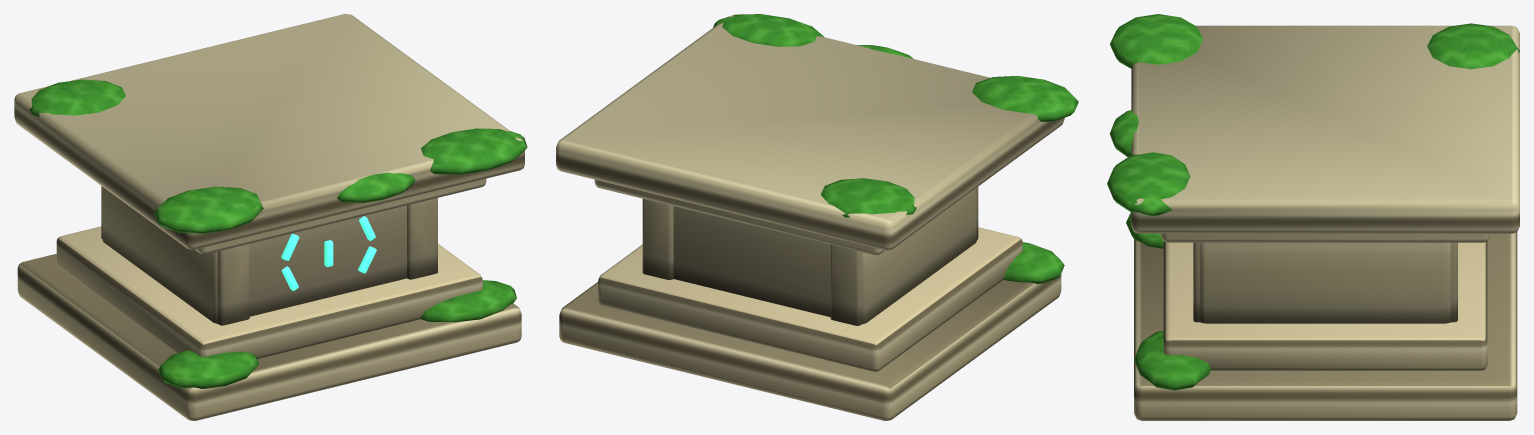
Rendered from m3_pedestal.glb.
The picture shows the model from 3 angles, left to right: view 1: azimuth 30°, elevation 25°; view 2: azimuth 150°, elevation 25°; view 3: azimuth 270°, elevation 25°; orthographic projection. The views are drawn at different scales.
Visible parts, largest first — view 1: PedCapTop, PedBase1, PedBase2, PedShaft, PedMoss_2, PedMoss_3, PedMoss_0, PedMoss_5, PedPilaster_-0.44, PedPilaster_0.44, PedMoss_1, PedCap1 (+1 smaller); view 2: PedCapTop, PedBase1, PedBase2, PedShaft, PedMoss_2, PedMoss_5, PedPilaster_-0.44, PedMoss_3, PedPilaster_0.44, PedCap1, PedMoss_0; view 3: PedCapTop, PedBase1, PedShaft, PedBase2, PedMoss_3, PedMoss_2, PedCap1, PedMoss_5, PedMoss_1, PedPilaster_0.44, PedMoss_4, PedMoss_0.
Boxes of the visible parts, bbox=[...] form: PedCapTop: bbox=[14, 14, 524, 249]; PedBase1: bbox=[17, 253, 521, 420]; PedBase2: bbox=[56, 226, 482, 358]; PedShaft: bbox=[102, 187, 406, 323]; PedMoss_2: bbox=[154, 186, 263, 233]; PedMoss_3: bbox=[421, 128, 527, 174]; PedMoss_0: bbox=[158, 350, 259, 388]; PedMoss_5: bbox=[29, 79, 125, 116]; PedPilaster_-0.44: bbox=[101, 186, 249, 325]; PedPilaster_0.44: bbox=[407, 198, 437, 279]; PedMoss_1: bbox=[420, 280, 516, 322]; PedCap1: bbox=[195, 178, 486, 254]; PedCapTop: bbox=[556, 15, 1064, 250]; PedBase1: bbox=[559, 274, 1061, 420]; PedBase2: bbox=[598, 227, 1022, 371]; PedShaft: bbox=[673, 188, 976, 324]; PedMoss_2: bbox=[972, 75, 1078, 121]; PedMoss_5: bbox=[820, 178, 916, 217]; PedPilaster_-0.44: bbox=[830, 187, 978, 325]; PedMoss_3: bbox=[713, 14, 824, 46]; PedPilaster_0.44: bbox=[642, 199, 673, 279]; PedCap1: bbox=[594, 179, 884, 254]; PedMoss_0: bbox=[1003, 242, 1064, 283]; PedCapTop: bbox=[1131, 25, 1519, 233]; PedBase1: bbox=[1134, 232, 1517, 420]; PedShaft: bbox=[1200, 242, 1450, 323]; PedBase2: bbox=[1163, 241, 1487, 370]; PedMoss_3: bbox=[1107, 152, 1190, 216]; PedMoss_2: bbox=[1110, 14, 1203, 68]; PedCap1: bbox=[1161, 233, 1490, 242]; PedMoss_5: bbox=[1427, 23, 1519, 69]; PedMoss_1: bbox=[1134, 331, 1211, 390]; PedPilaster_0.44: bbox=[1193, 242, 1457, 322]; PedMoss_4: bbox=[1110, 110, 1138, 156]; PedMoss_0: bbox=[1126, 212, 1163, 248].
Size of the model in its own units: 1.7 by 0.945 by 1.53.
3 materials, 2 textured.
